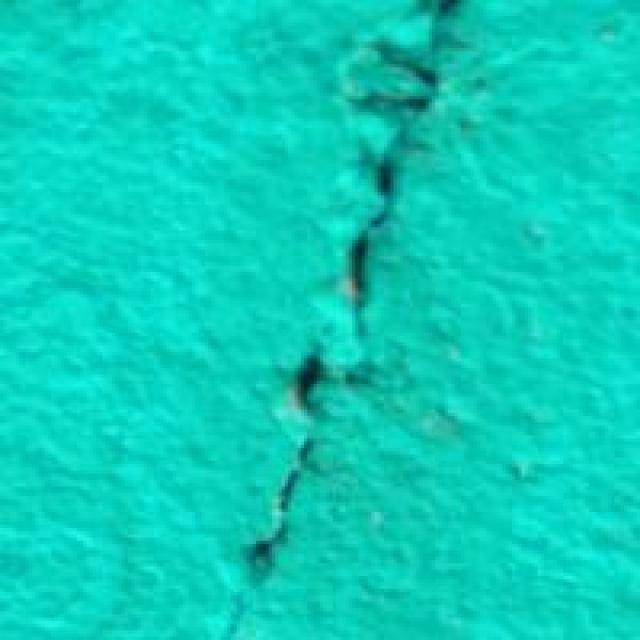crack: (212, 0, 492, 640)
